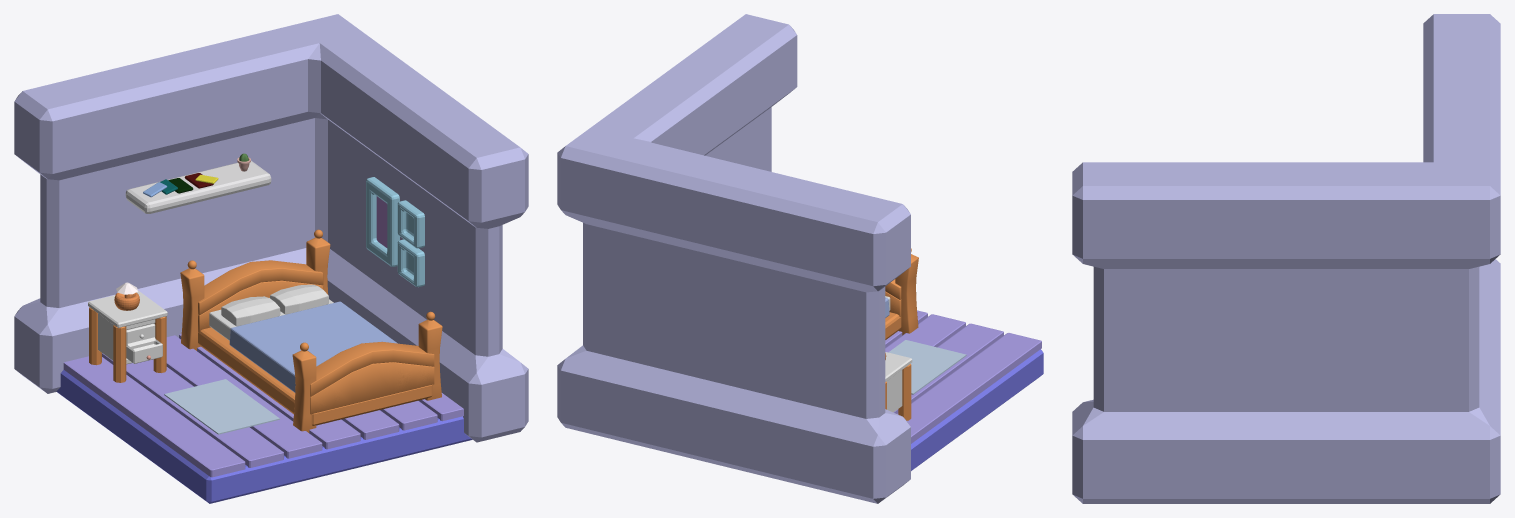
File: room.glb
3 renders of one model, left to right at view 1: azimuth 30°, elevation 25°; view 2: azimuth 150°, elevation 25°; view 3: azimuth 270°, elevation 25°, orthographic. The views are drawn at different scales.
Visible parts, largest first — view 1: Cube, Plane.001, Plane, Plane.003, Plane.006, Plane.004, Cube.001, Plane.002, Plane.011, Plane.009, Cube.002, Plane.010 (+2 smaller); view 2: Cube, Plane.001, Plane, Plane.011, Plane.004, Plane.009, Plane.010; view 3: Cube.
Part boxes in pixels (x1=…): Cube: x1=14, y1=14, x2=528, y2=442; Plane.001: x1=63, y1=333, x2=463, y2=477; Plane: x1=56, y1=369, x2=472, y2=503; Plane.003: x1=198, y1=260, x2=434, y2=414; Plane.006: x1=229, y1=301, x2=397, y2=392; Plane.004: x1=180, y1=229, x2=442, y2=432; Cube.001: x1=366, y1=177, x2=424, y2=287; Plane.002: x1=198, y1=327, x2=432, y2=425; Plane.011: x1=164, y1=379, x2=279, y2=434; Plane.009: x1=88, y1=290, x2=167, y2=364; Cube.002: x1=125, y1=160, x2=271, y2=213; Plane.010: x1=89, y1=307, x2=166, y2=382; Cube: x1=557, y1=14, x2=910, y2=503; Plane.001: x1=885, y1=310, x2=1041, y2=443; Plane: x1=911, y1=349, x2=1043, y2=470; Plane.011: x1=888, y1=340, x2=966, y2=394; Plane.004: x1=895, y1=248, x2=918, y2=335; Plane.009: x1=885, y1=352, x2=912, y2=412; Plane.010: x1=885, y1=364, x2=911, y2=420; Cube: x1=1072, y1=14, x2=1500, y2=503.
Bounding box in the file's own units: 2.44 × 2.02 × 2.44.
